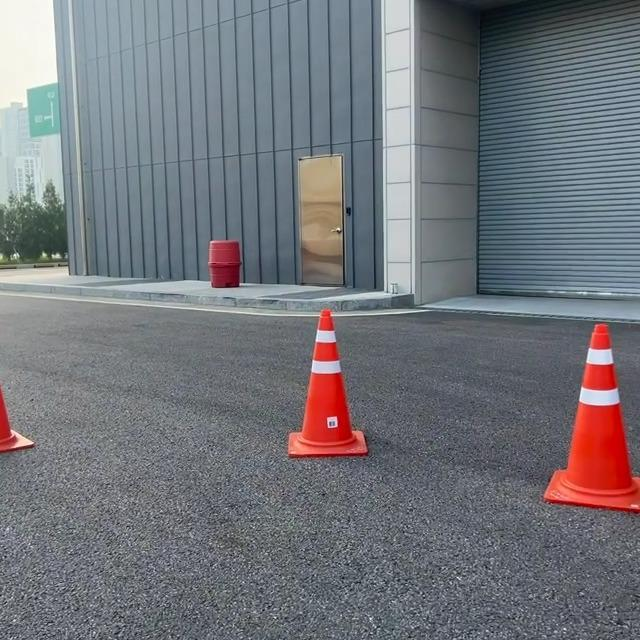fallen_object: (229, 287, 385, 477), (527, 302, 640, 542)
